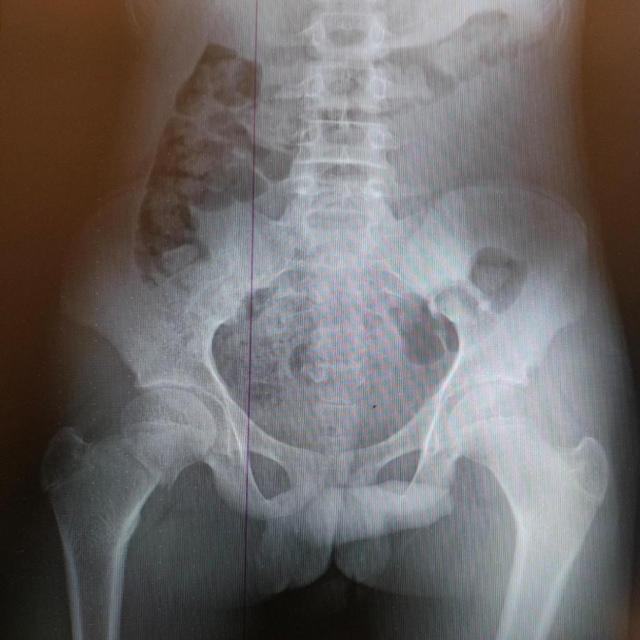normal-left: (446, 384, 609, 640)
right-neck: (43, 426, 156, 640), (122, 388, 218, 492)
